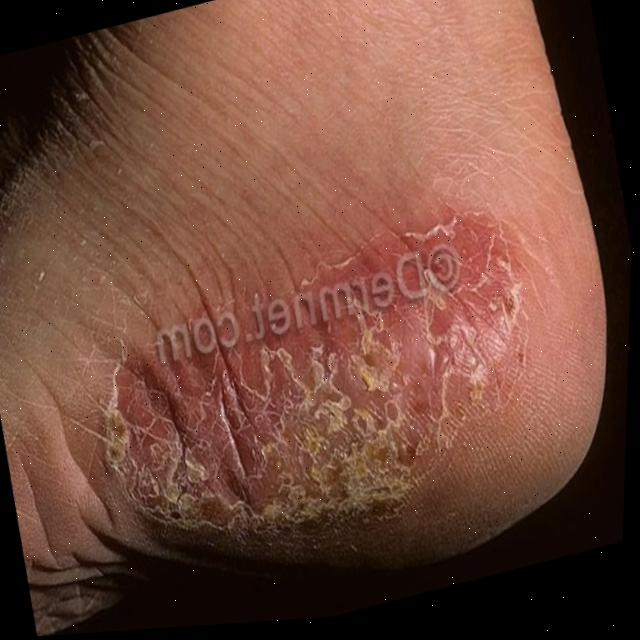Eczema: (79, 225, 507, 574)
